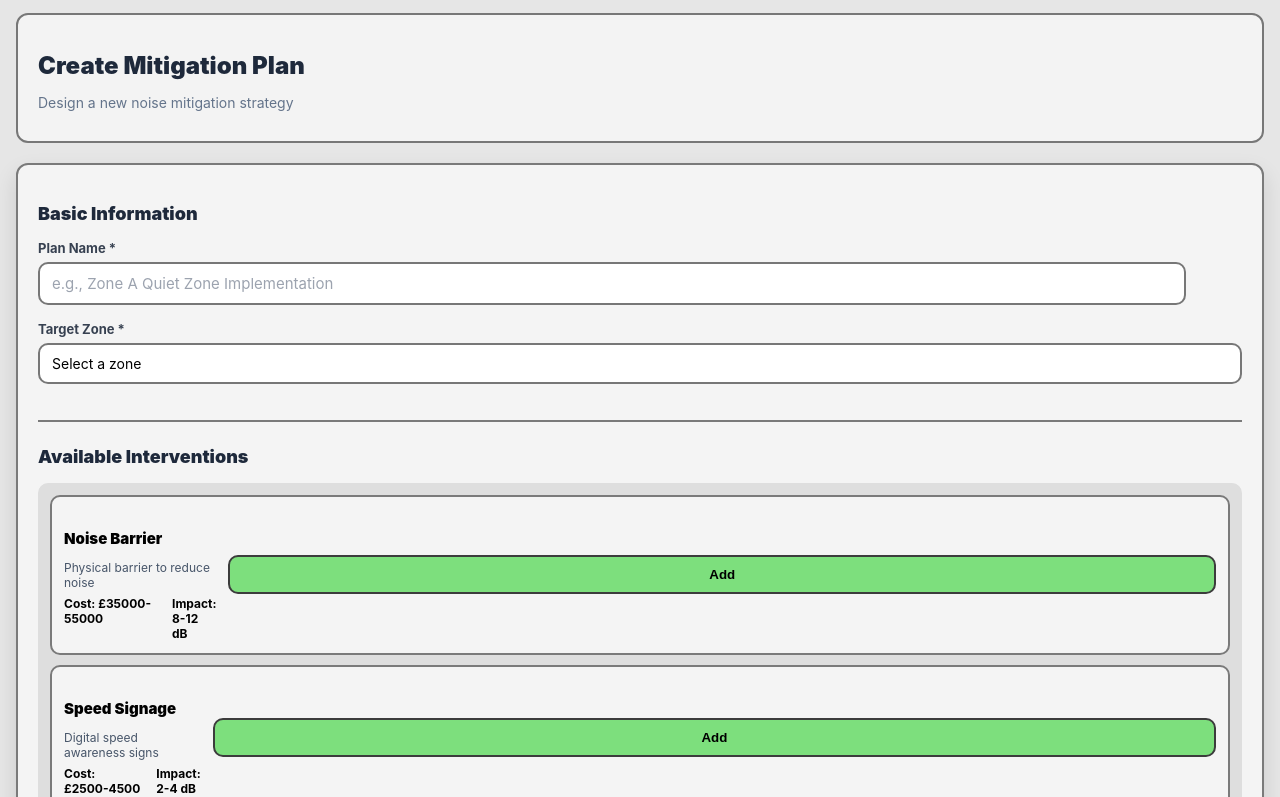
Test: PlanBuilder › allows adding interventions to the plan
Click the button "Add" next to "Physical barrier to reduce noise" at (722, 575), box [228,555,1216,594]
(page scrolled)
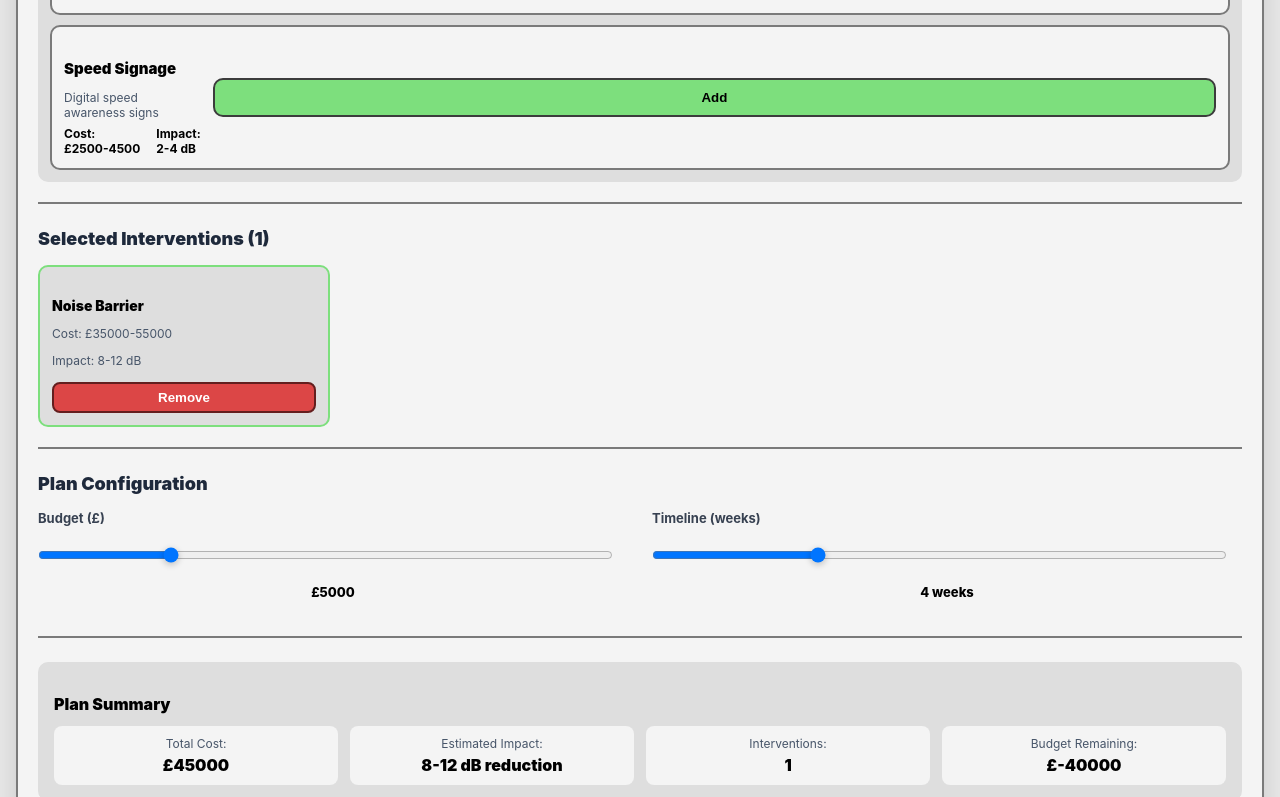
Result: the button "Remove" is shown at [52,382,316,413]
